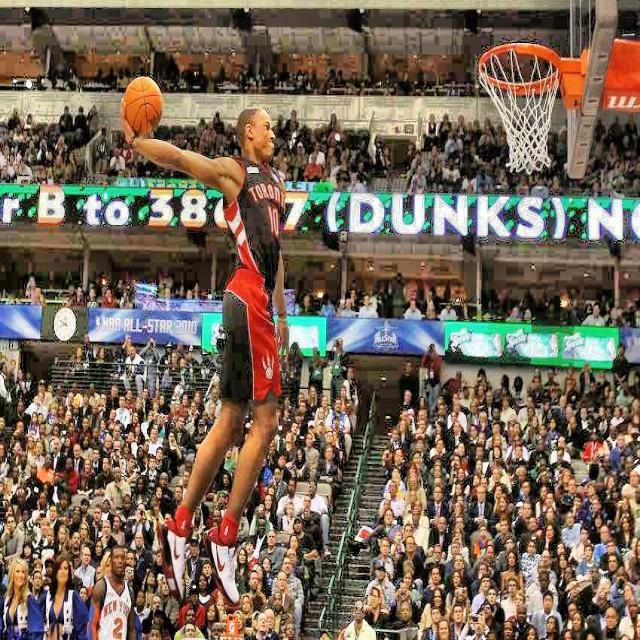board: (124, 75, 163, 134)
rim: (477, 44, 559, 174)
